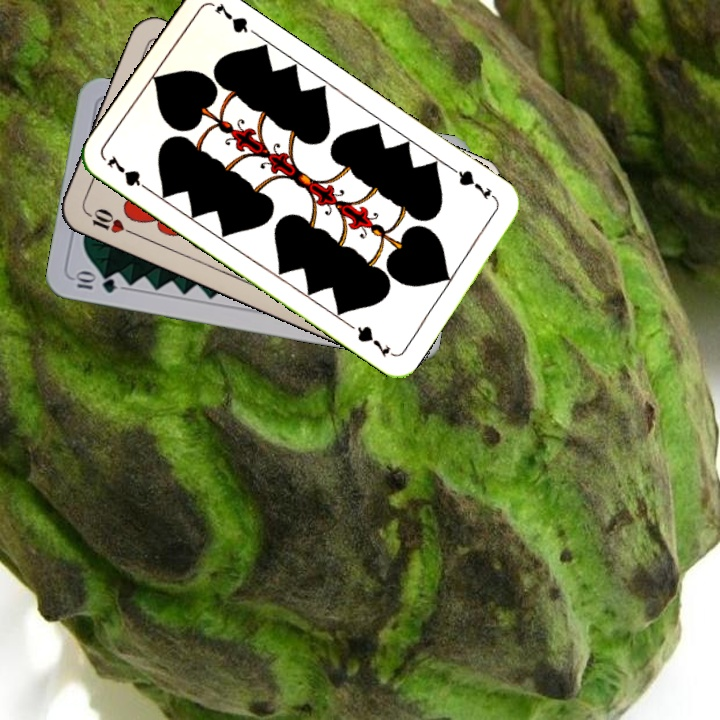G10: (70, 269, 120, 296)
G7: (102, 151, 154, 195), (448, 164, 500, 204)
H10: (81, 204, 137, 238)
